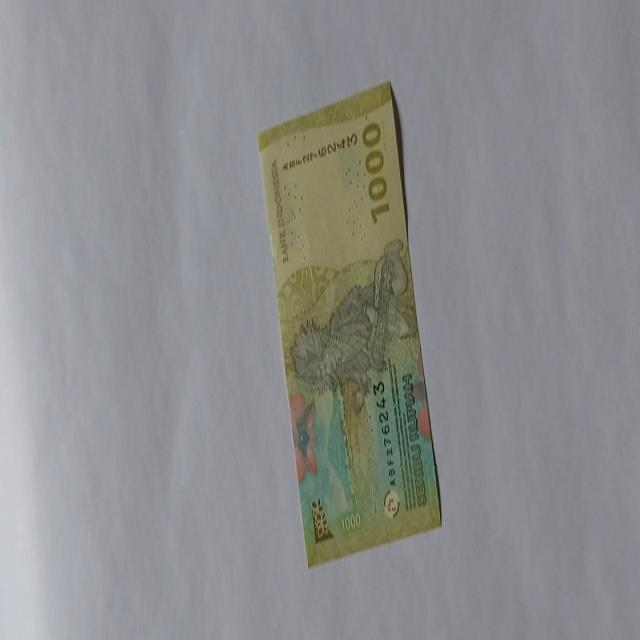seribu rupiah kertas: (256, 80, 442, 568)
